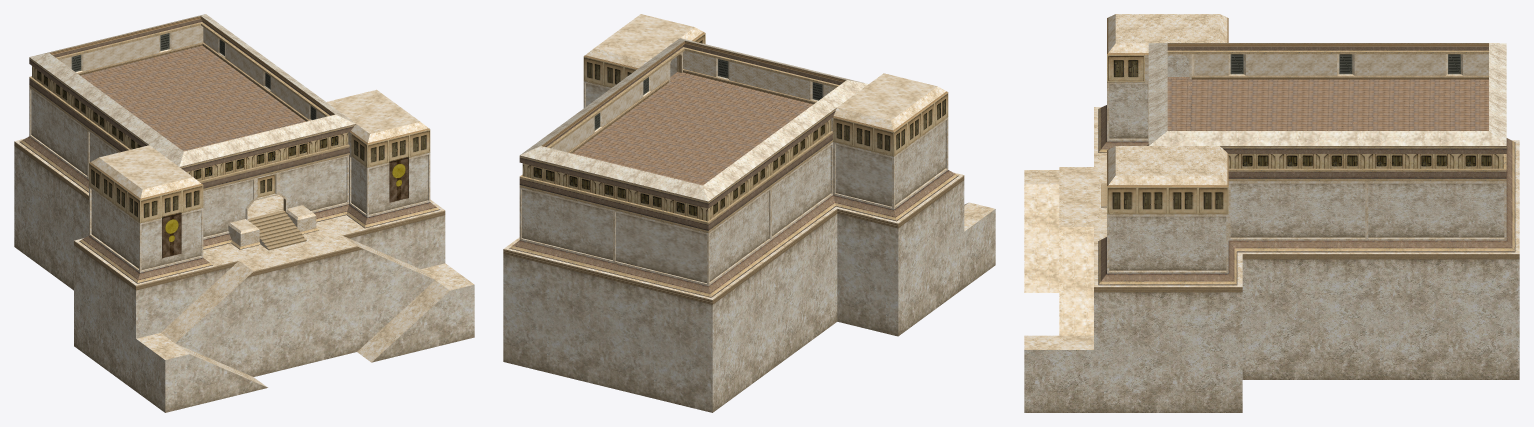
Rendered from ply_tato_assoc_hall_civ_s01_r0_exterior_mesh_exterior_l0.fbx.
The picture shows the model from 3 angles, left to right: view 1: azimuth 30°, elevation 25°; view 2: azimuth 150°, elevation 25°; view 3: azimuth 270°, elevation 25°; orthographic projection. The views are drawn at different scales.
Parts seen in each view (by area): view 1: mesh_node; view 2: mesh_node; view 3: mesh_node.
Part boxes in pixels (x1=…): mesh_node: x1=14, y1=14, x2=474, y2=412; mesh_node: x1=503, y1=14, x2=995, y2=412; mesh_node: x1=1024, y1=14, x2=1519, y2=412.
Size of the model in its own units: 49 by 30 by 57.
